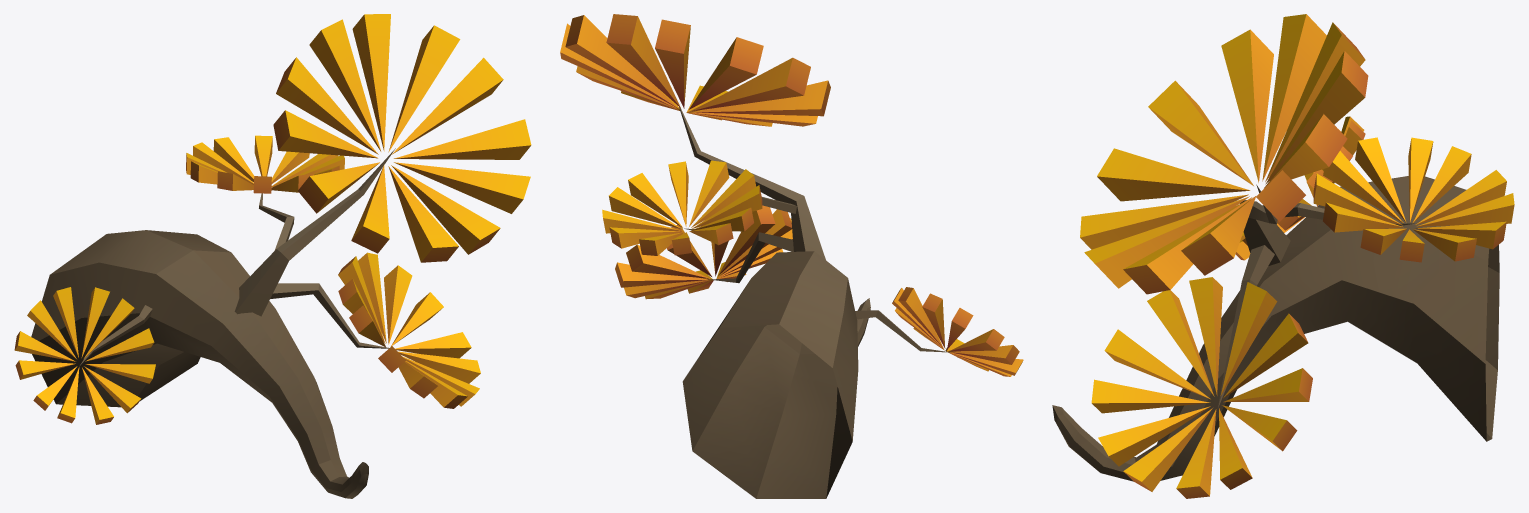
Rendered from branch_yellow_2.glb.
3 renders of one model, left to right at view 1: azimuth 30°, elevation 25°; view 2: azimuth 150°, elevation 25°; view 3: azimuth 270°, elevation 25°, orthographic. The views are drawn at different scales.
Visible parts, largest first — view 1: branch_yellow_2; view 2: branch_yellow_2; view 3: branch_yellow_2.
Part boxes in pixels (x1=…): branch_yellow_2: x1=14, y1=14, x2=531, y2=498; branch_yellow_2: x1=560, y1=14, x2=1023, y2=498; branch_yellow_2: x1=1052, y1=14, x2=1514, y2=498.
Size of the model in its own units: 3.19 by 2.59 by 2.16.
1 material, 1 textured.
